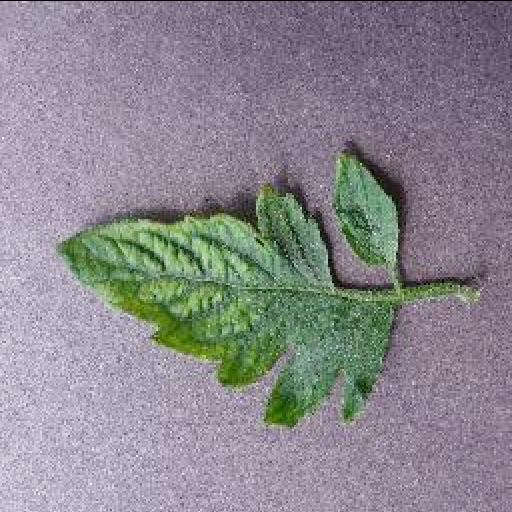Mosaic Virus: (46, 146, 410, 428)
